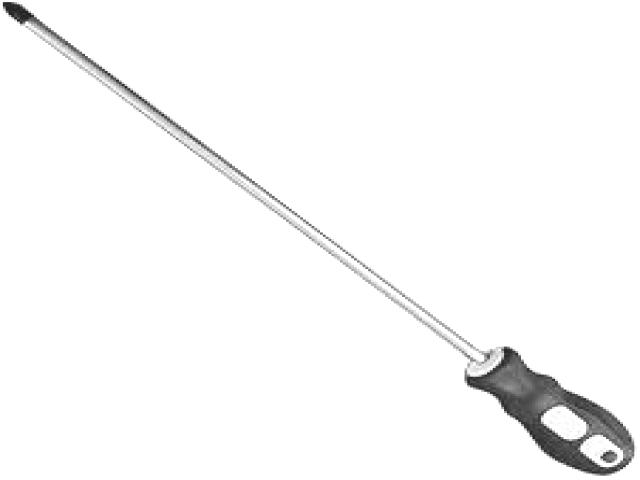Screwdriver: (2, 4, 634, 473)
